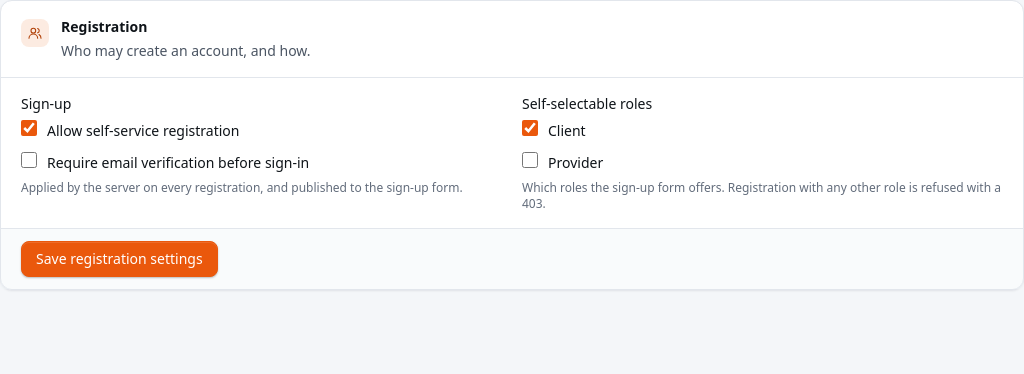
registration policy card › warns when the policy would leave nobody able to register
This screenshot has width=1024, height=374.
Click the checkbox labelled "Client" at (530, 128), box [522,120,538,136]
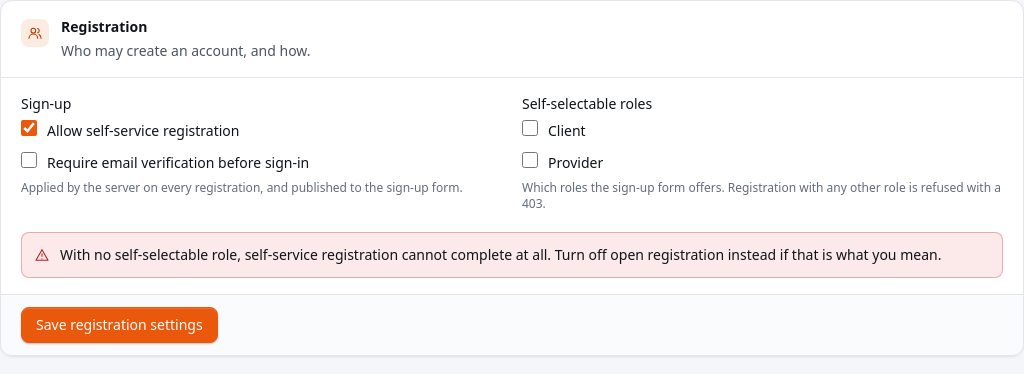
Expected: the message shows "cannot complete at all", [60,245,941,264]
